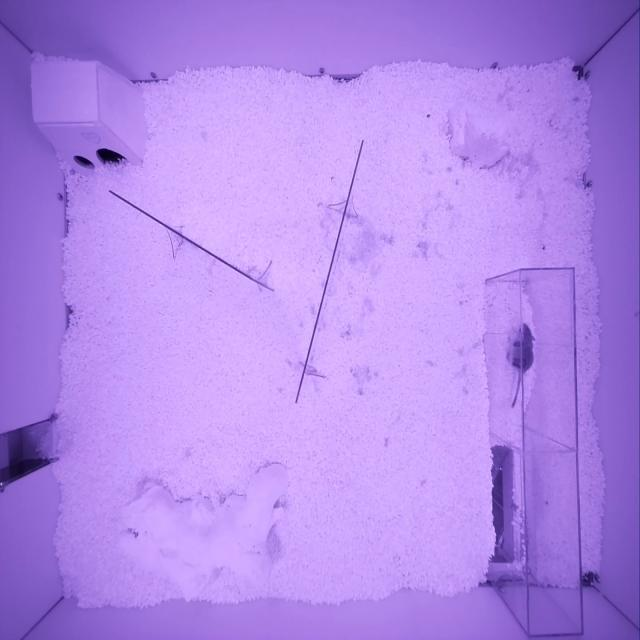pup_spotted: (509, 323, 536, 373)
